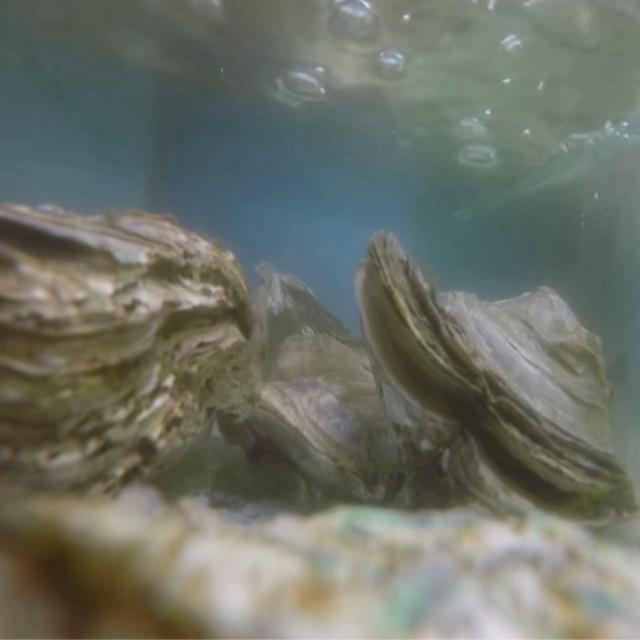Oyster-Closed: (0, 202, 254, 545), (249, 334, 418, 511)
Oyster-Indeterminate: (0, 484, 640, 640)
Oyster-Open: (353, 229, 640, 543)
